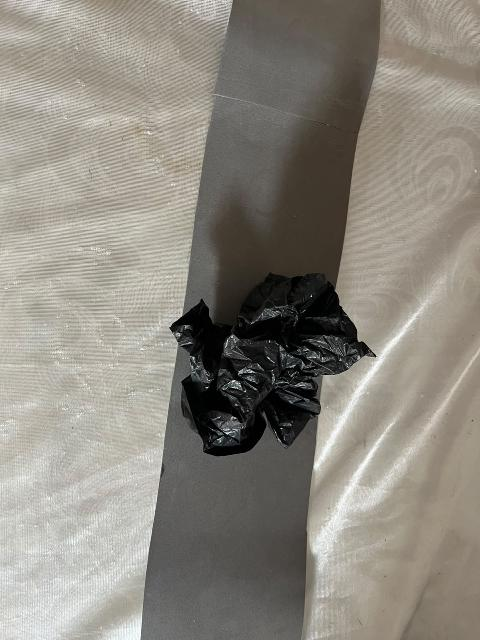LDPE: (163, 227, 387, 499)
